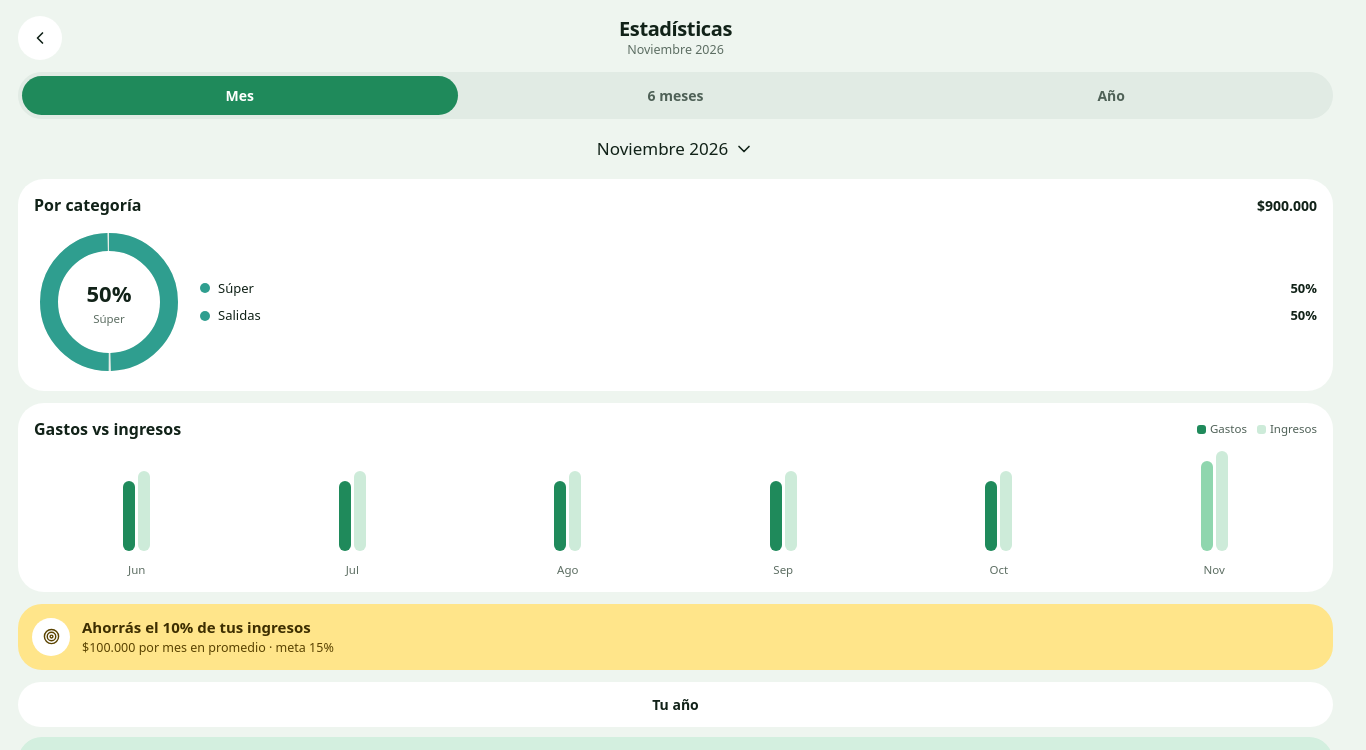
Test: MonthReportPage (Estadísticas) › 6 meses adds the months up and asks for six summaries
Click the button "6 meses": point(676, 96) [458,76,893,115]
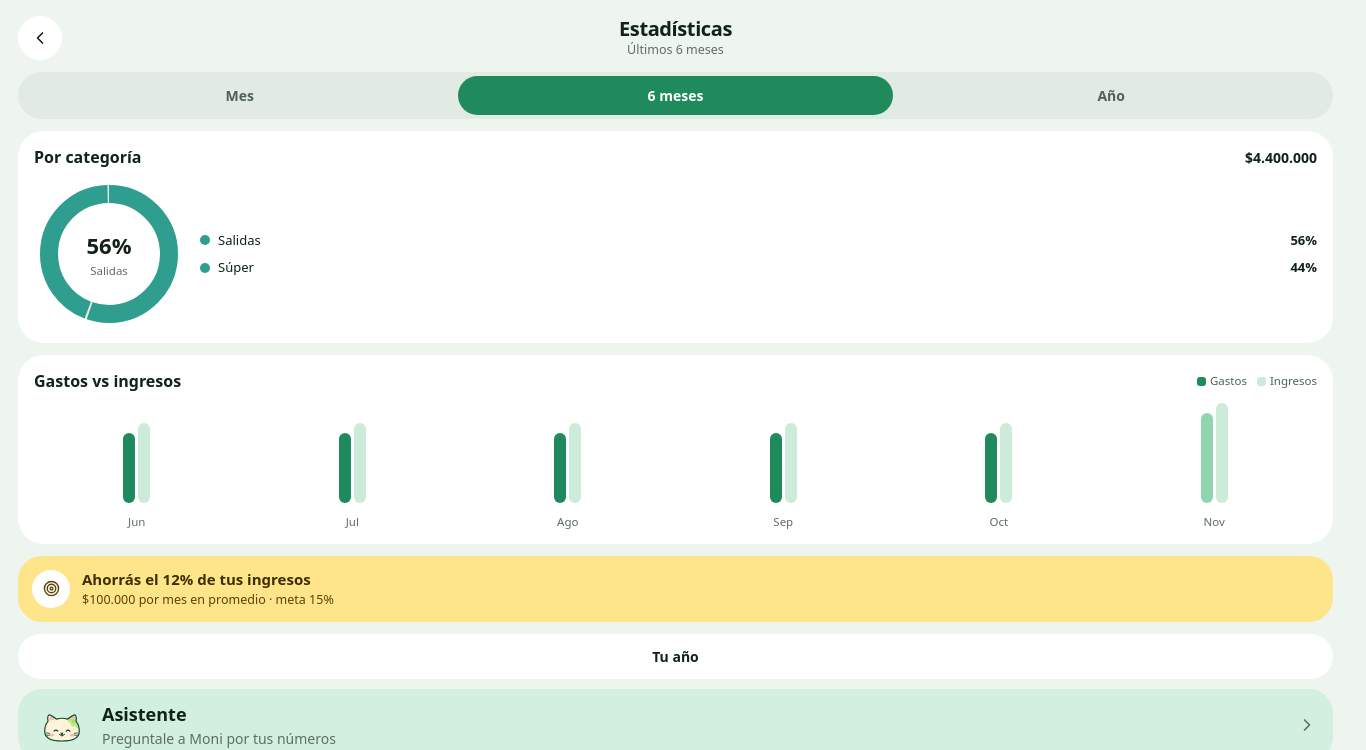
Now the text "Últimos 6 meses" is shown, box [627,41,724,58]
Now the element "Por categoría" shows "$4.400.000", box [1245,148,1317,166]
